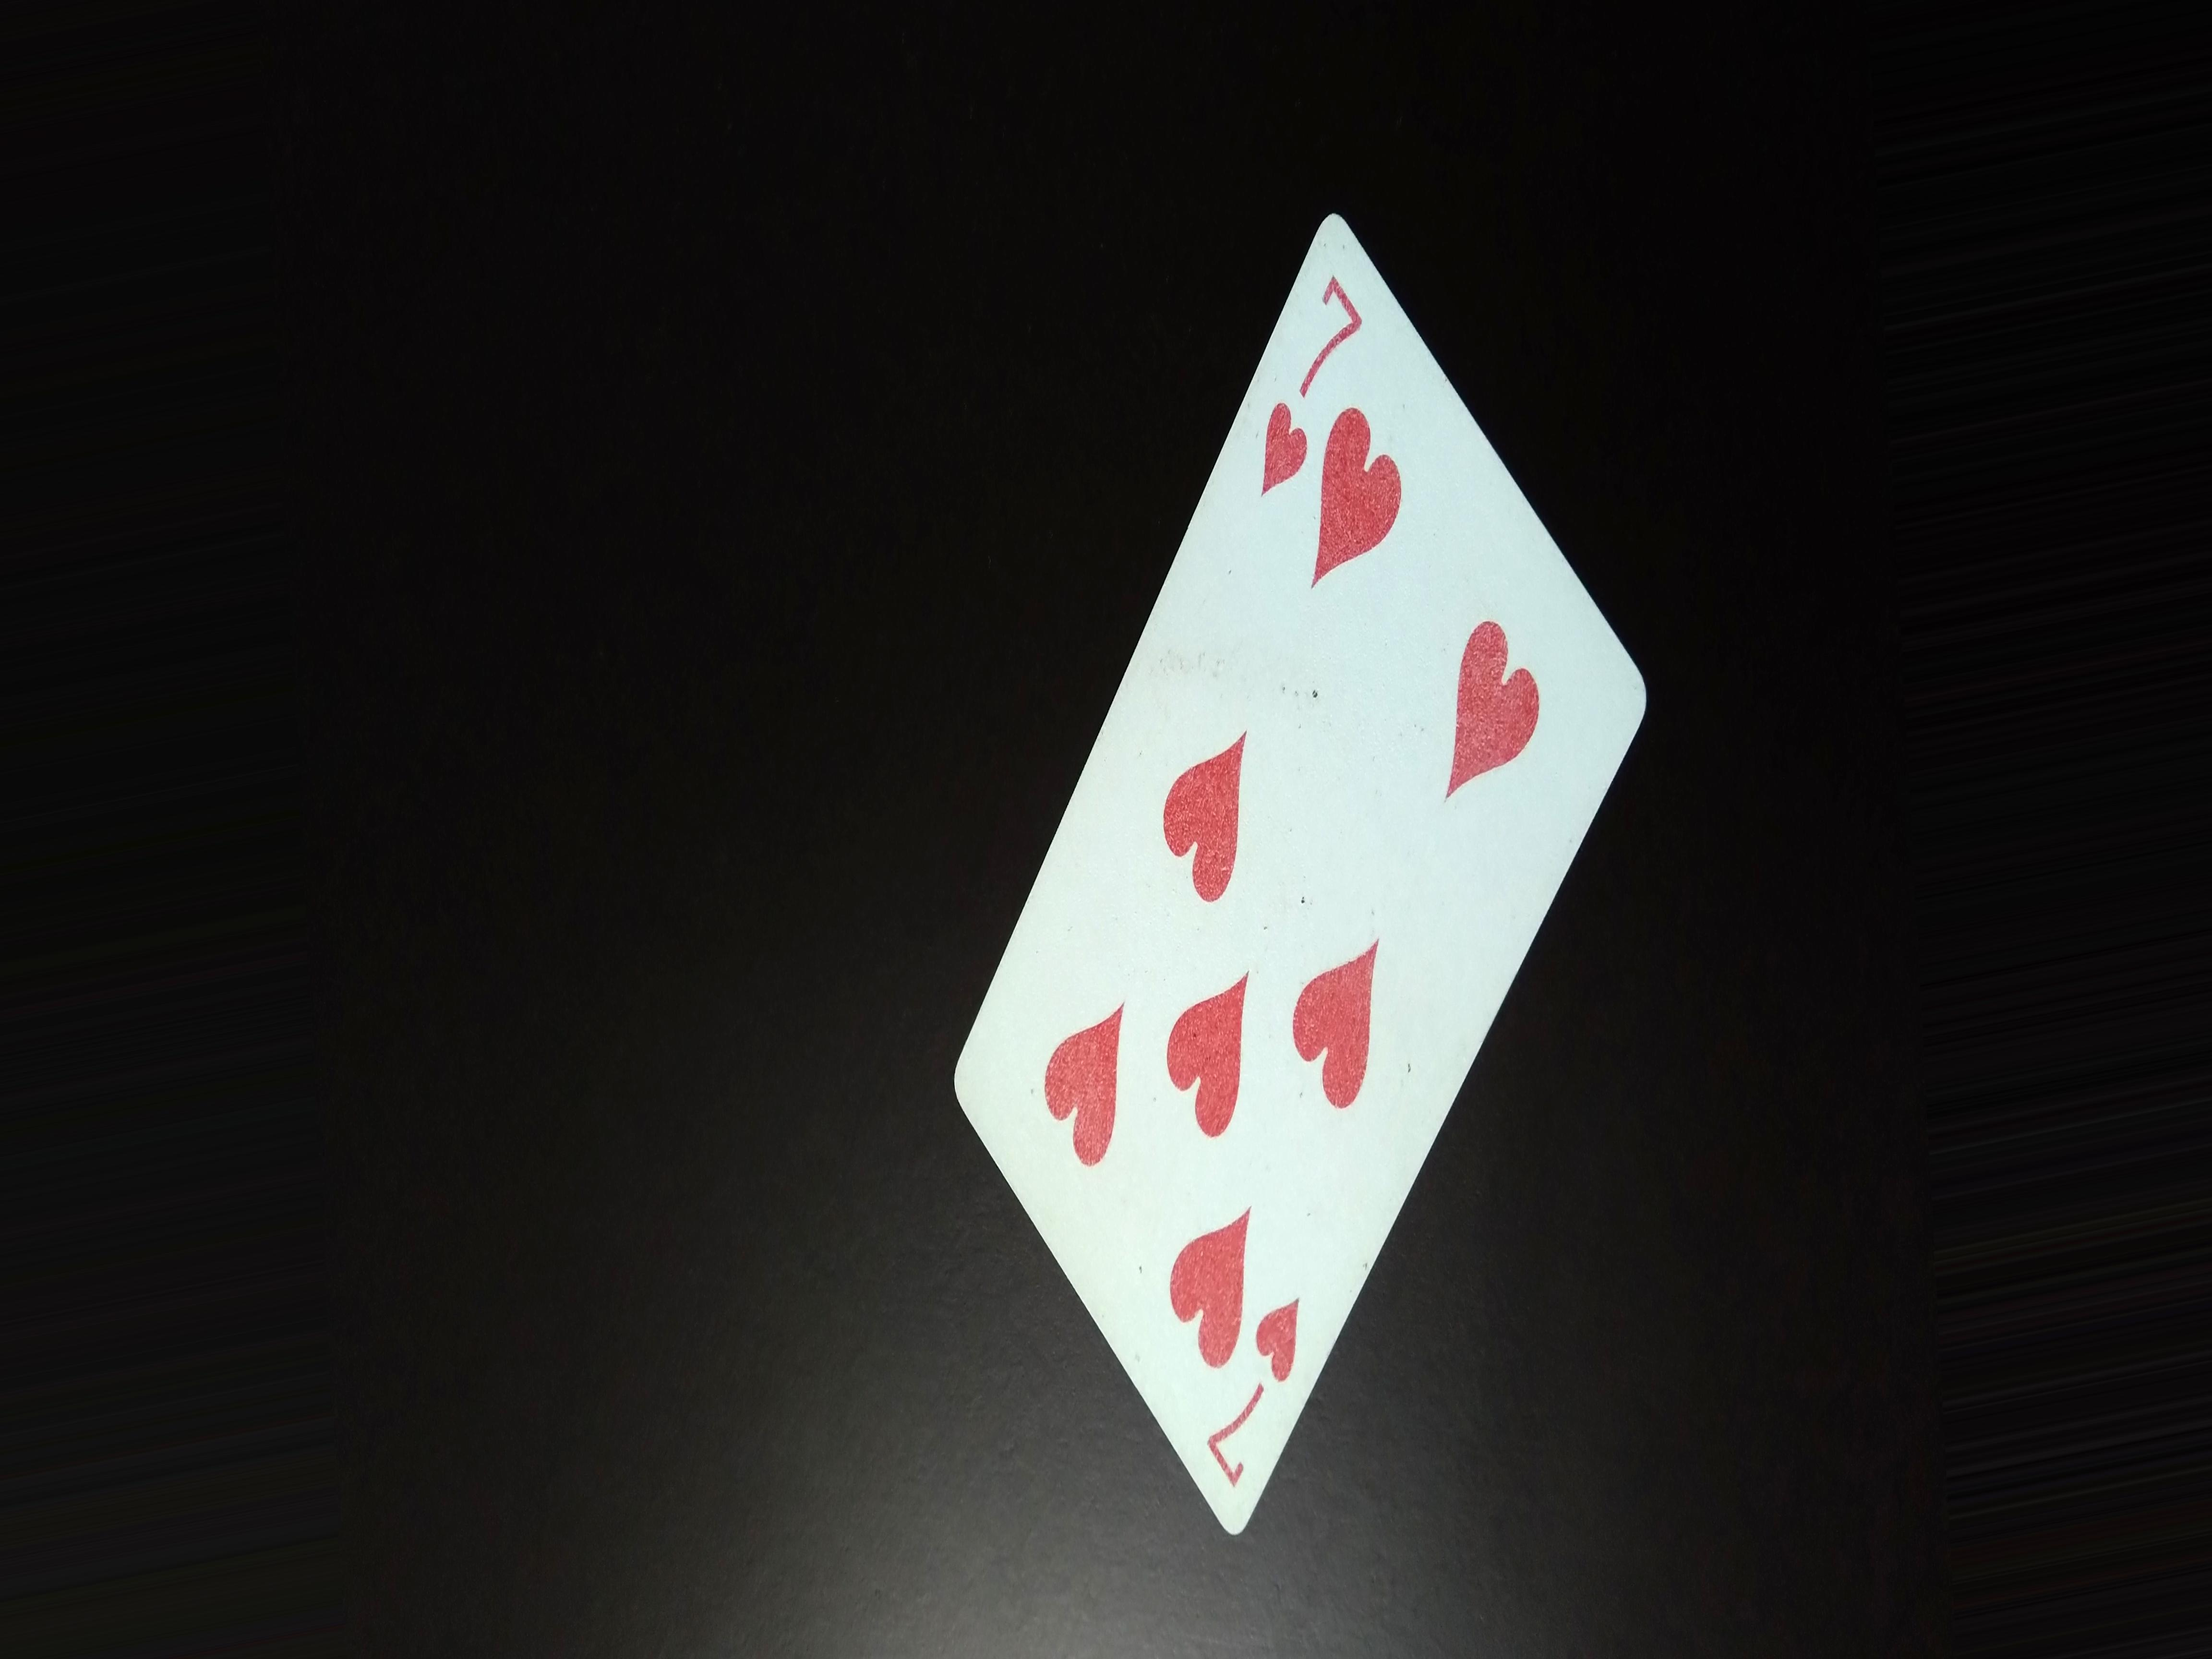7H: (1202, 1291, 1331, 1488)
